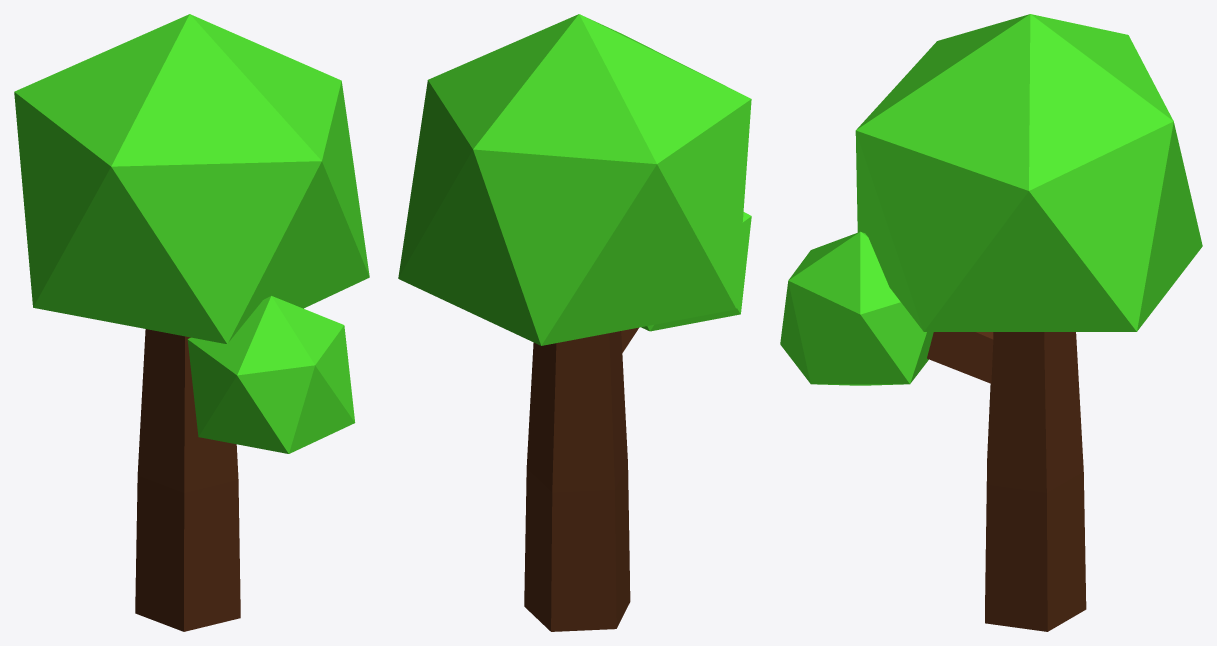
The model's file is tree.fbx.
3 renders of one model, left to right at view 1: azimuth 30°, elevation 25°; view 2: azimuth 150°, elevation 25°; view 3: azimuth 270°, elevation 25°, orthographic.
Visible parts, largest first — view 1: Cylinder; view 2: Cylinder; view 3: Cylinder.
Boxes of the visible parts, left/top/right/bottom form: Cylinder: left=14, top=14, right=369, bottom=631; Cylinder: left=398, top=14, right=751, bottom=631; Cylinder: left=780, top=14, right=1202, bottom=631.
Bounding box in the file's own units: 2.87 × 5.29 × 3.4.
